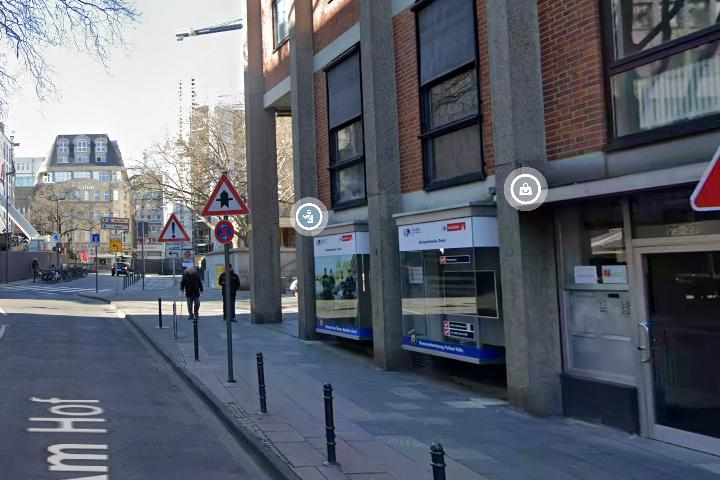google_maps: (509, 172, 543, 206), (295, 201, 324, 230)
traffic_sign: (201, 174, 249, 216), (157, 213, 190, 243), (214, 220, 235, 244)
